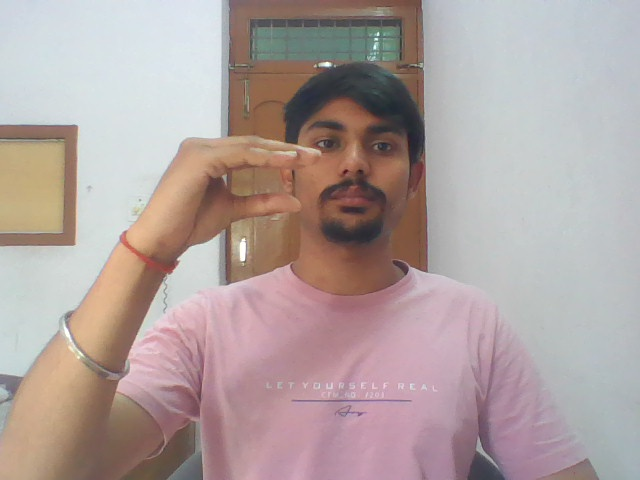No: (134, 127, 324, 243)
